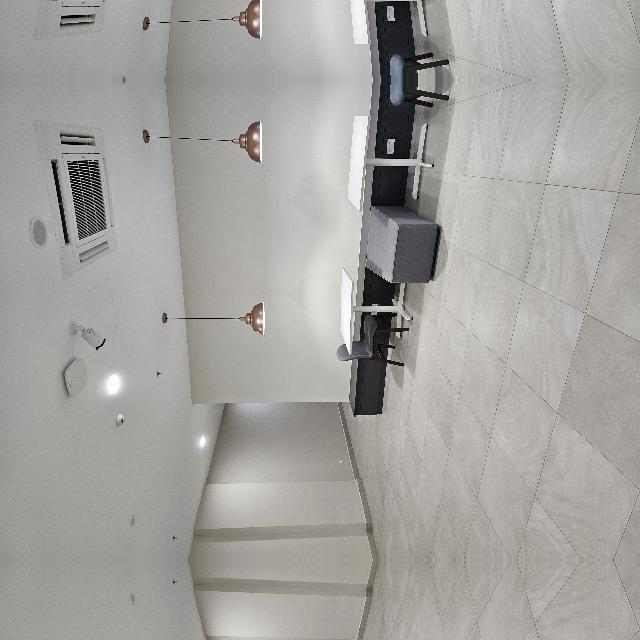obstacle: (195, 412, 480, 522), (194, 598, 479, 640)
